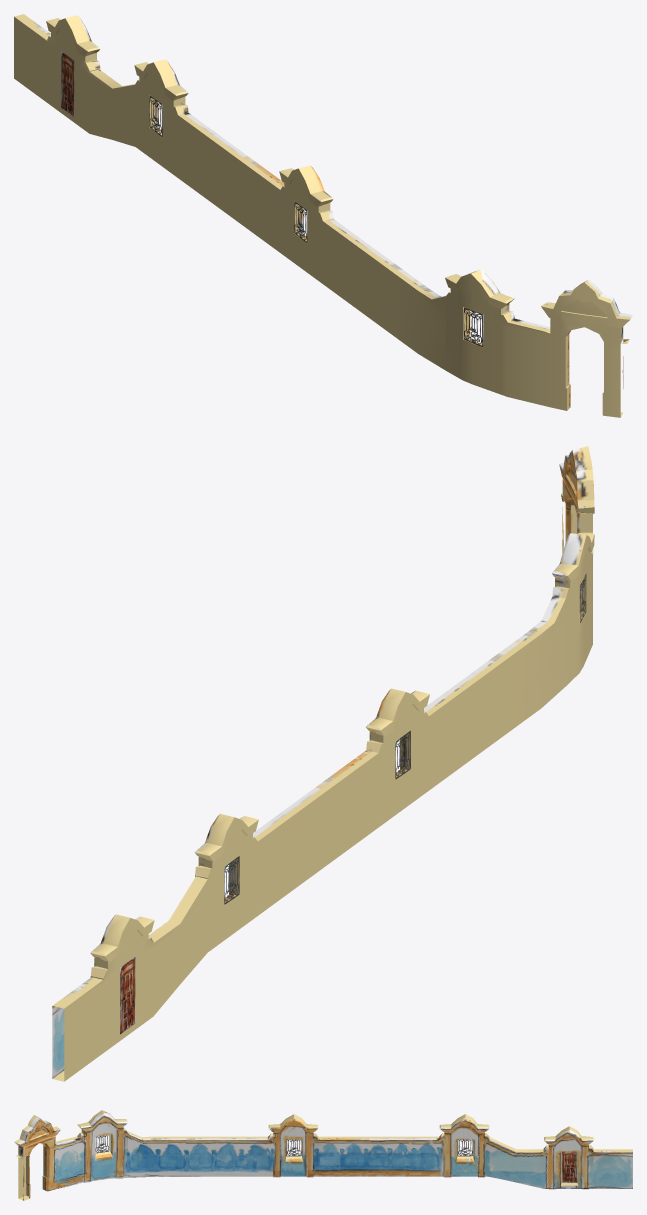
The model's file is GLB Muro Projeto 3d Bissaya Barreto.glb.
3 views of the same model, one above another, from view 1: azimuth 30°, elevation 25°; view 2: azimuth 150°, elevation 25°; view 3: azimuth 270°, elevation 25° (orthographic). The views are drawn at different scales.
Visible parts, largest first — view 1: MuroPrincipal, PortaoAnexo; view 2: MuroPrincipal, PortaoAnexo; view 3: MuroPrincipal, PortaoAnexo, GradesJanelas.001, GradesJanelas, GradesJanelas.002.
Part boxes in pixels (<box>): MuroPrincipal: <box>14,14,632,417</box>; PortaoAnexo: <box>61,51,74,116</box>; MuroPrincipal: <box>52,446,594,1081</box>; PortaoAnexo: <box>120,956,135,1034</box>; MuroPrincipal: <box>14,1110,632,1200</box>; PortaoAnexo: <box>561,1151,577,1182</box>; GradesJanelas.001: <box>457,1139,472,1156</box>; GradesJanelas: <box>286,1139,301,1156</box>; GradesJanelas.002: <box>95,1135,109,1153</box>.
Size of the model in its own units: 5.16 by 7.31 by 45.75.
Materials: 4 (3 with a texture image).
